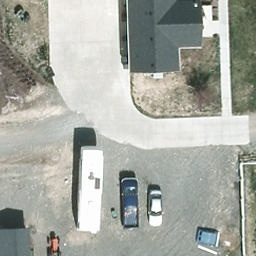camping car: (76, 145, 104, 234)
car: (147, 189, 164, 230)
pickup: (120, 176, 142, 230)
